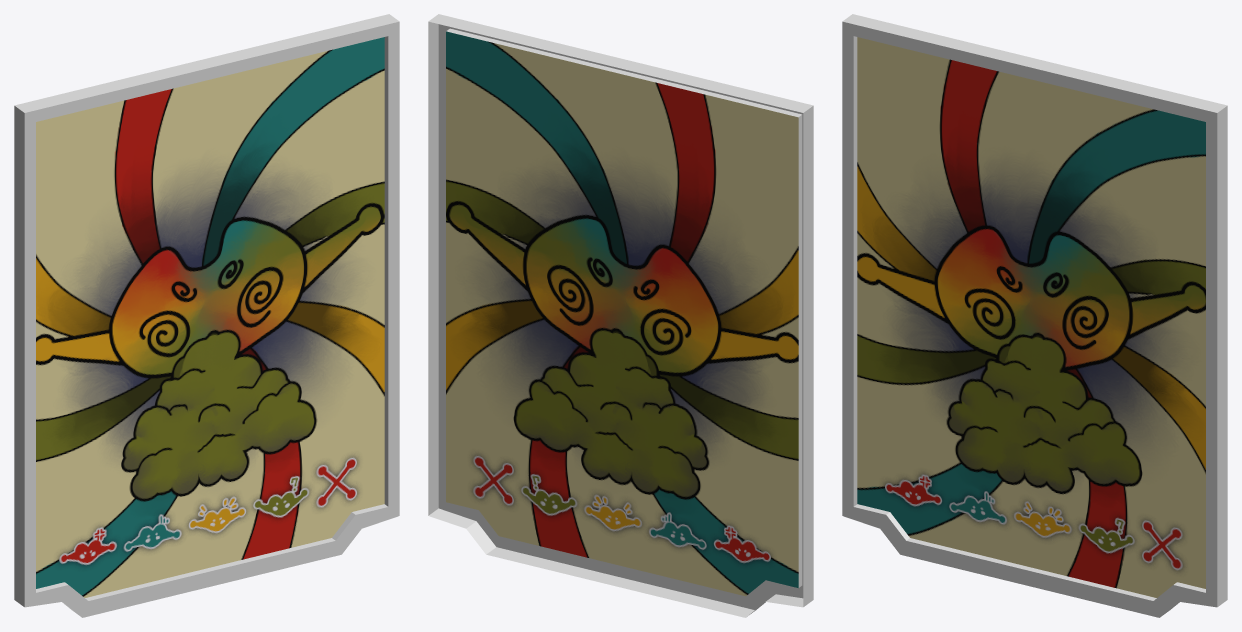
File: MESH_Poster.fbx
The picture shows the model from 3 angles, left to right: view 1: azimuth 30°, elevation 25°; view 2: azimuth 150°, elevation 25°; view 3: azimuth 330°, elevation 25°; orthographic projection.
Parts seen in each view (by area): view 1: Poster_01; view 2: Poster_01; view 3: Poster_01.
Part boxes in pixels (left/top/right/bottom): Poster_01: left=14, top=14, right=399, bottom=617; Poster_01: left=428, top=14, right=813, bottom=617; Poster_01: left=842, top=14, right=1227, bottom=617.
Size of the model in its own units: 0.7979 by 1.06 by 0.0381.
